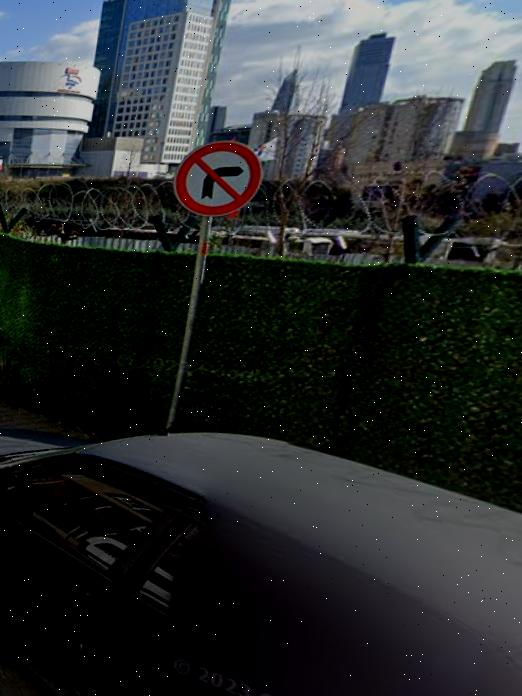rightturnsareforbidden: (175, 138, 262, 214)
